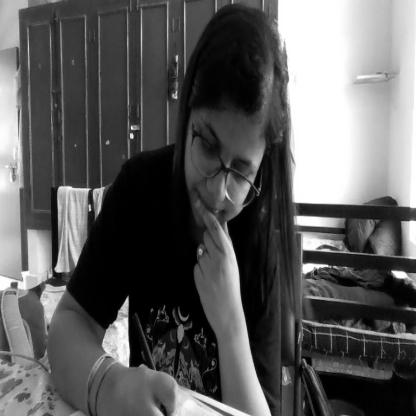Distracted: (179, 2, 286, 240)
